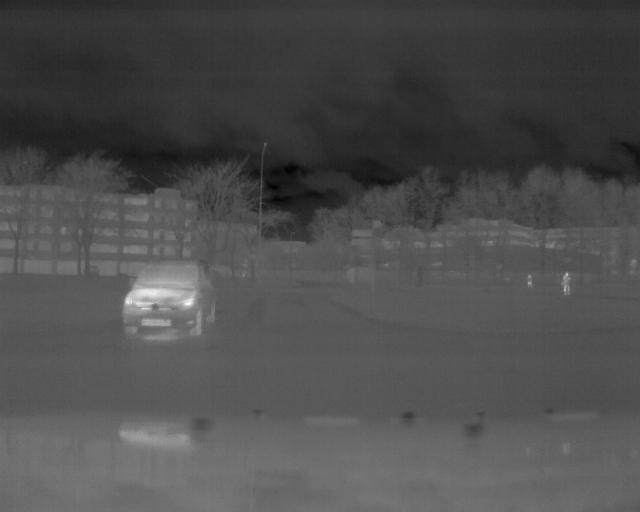car: (121, 261, 220, 340)
person: (560, 271, 571, 301)
